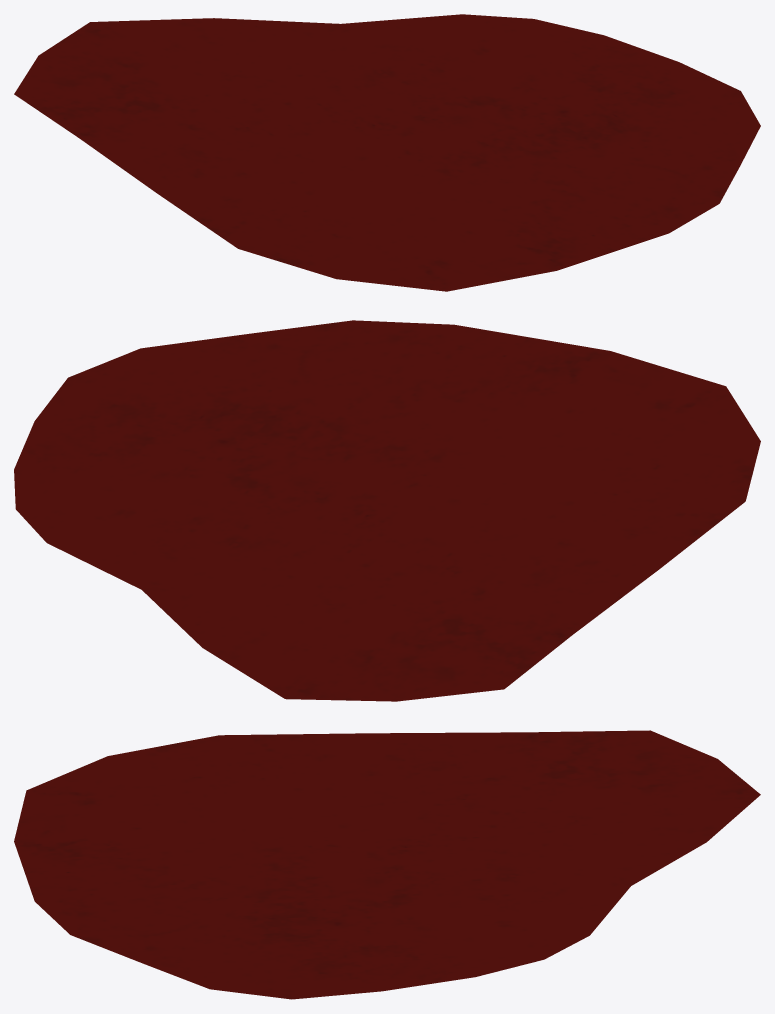
File: SM_Blood1.fbx
3 views of the same model, one above another, from view 1: azimuth 30°, elevation 25°; view 2: azimuth 150°, elevation 25°; view 3: azimuth 270°, elevation 25° (orthographic). The views are drawn at different scales.
Visible parts, largest first — view 1: SM_Blood1; view 2: SM_Blood1; view 3: SM_Blood1.
Boxes of the visible parts, <box> form: SM_Blood1: <box>14,14,760,291</box>; SM_Blood1: <box>14,320,760,701</box>; SM_Blood1: <box>14,730,760,999</box>.
Bounding box in the file's own units: 27.79 × 0 × 32.61.
Materials: 1 (1 with a texture image).
